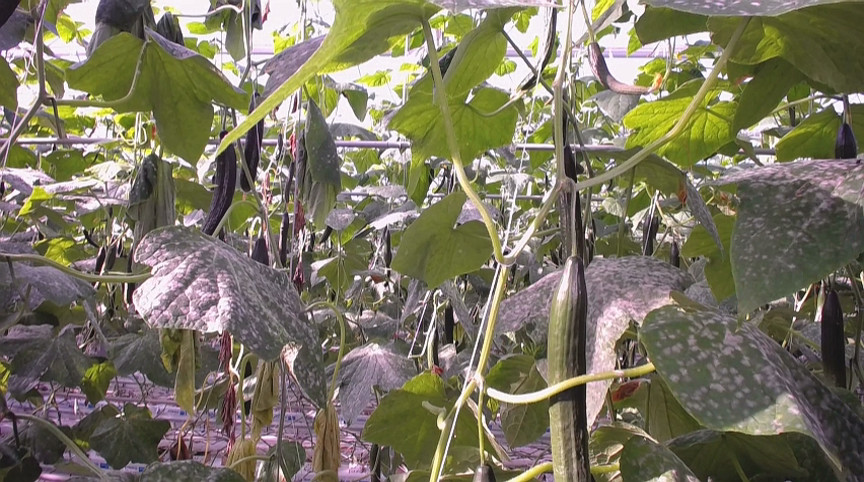cucumber: (545, 255, 591, 482), (202, 132, 235, 236), (586, 42, 650, 94), (821, 289, 849, 388), (240, 98, 264, 192), (834, 122, 858, 161), (426, 330, 440, 368)
